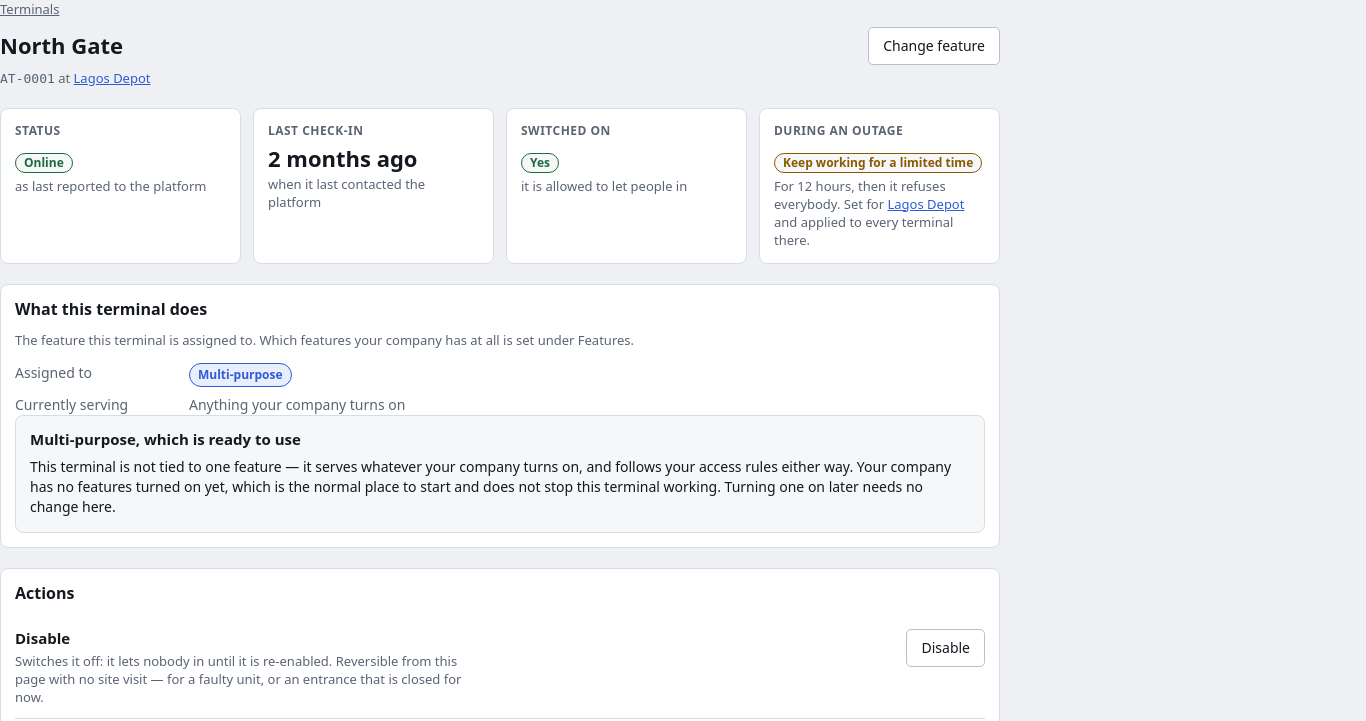
Test: disable and re-enable › sends the reason so the next operator can read why
Check: the heading "Actions" is shown, box [15,582,74,604]
Click the button "Disable" at (946,648), box [906,629,985,667]
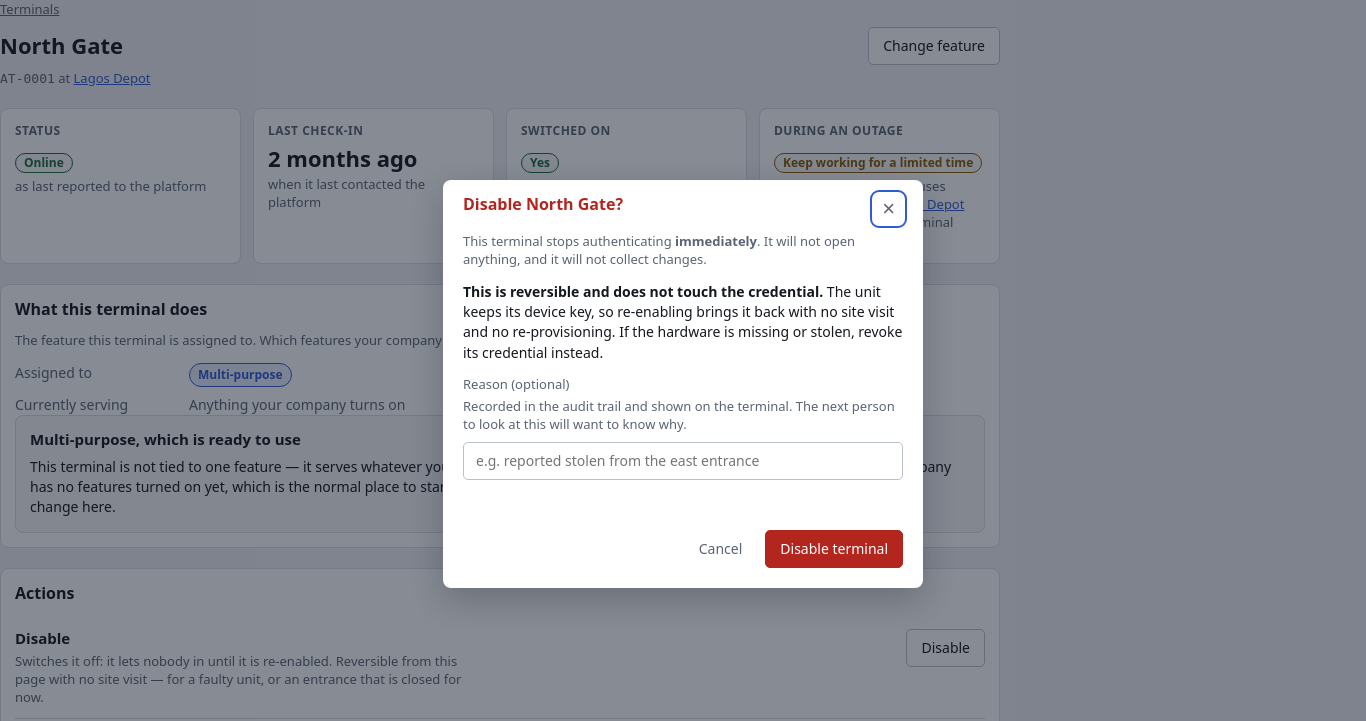
Type "panel damaged in the storm" into the field labelled "Reason (optional)" at (683,461), box [463,442,903,480]
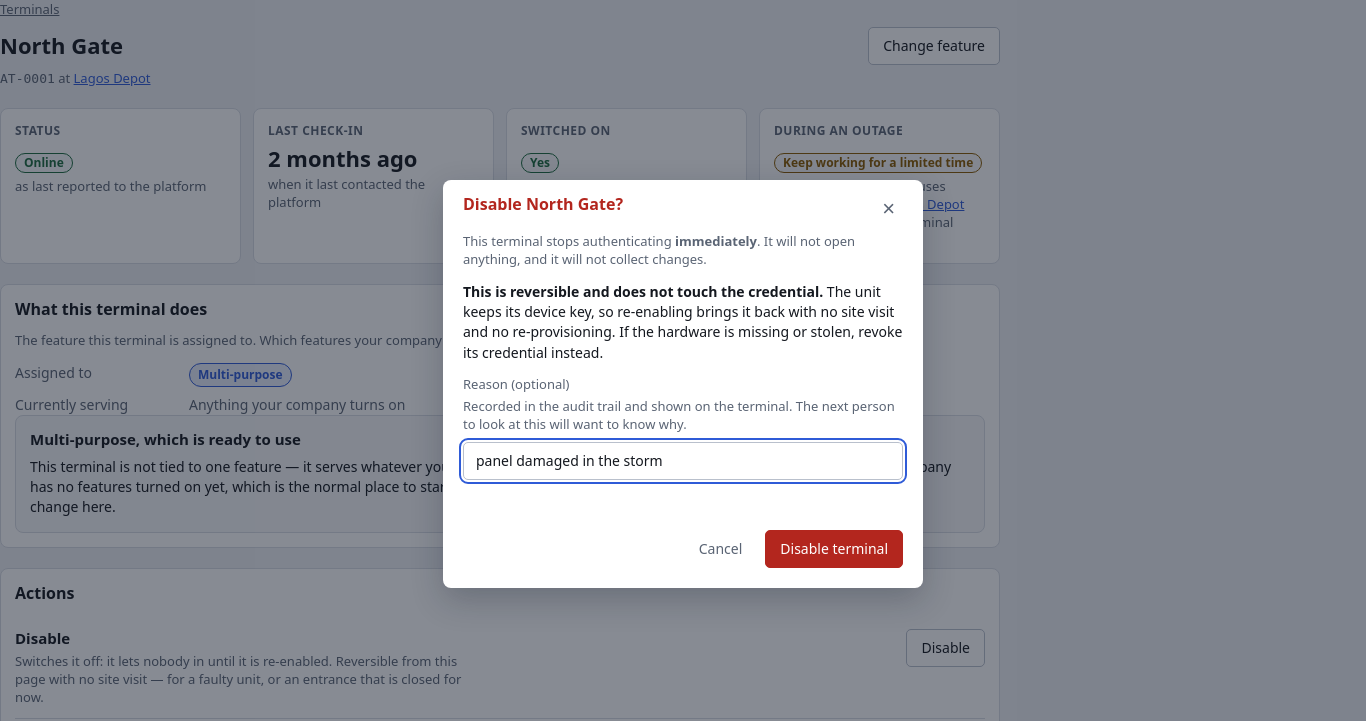
Click the button "Disable terminal" at (834,549), box [765,530,903,568]
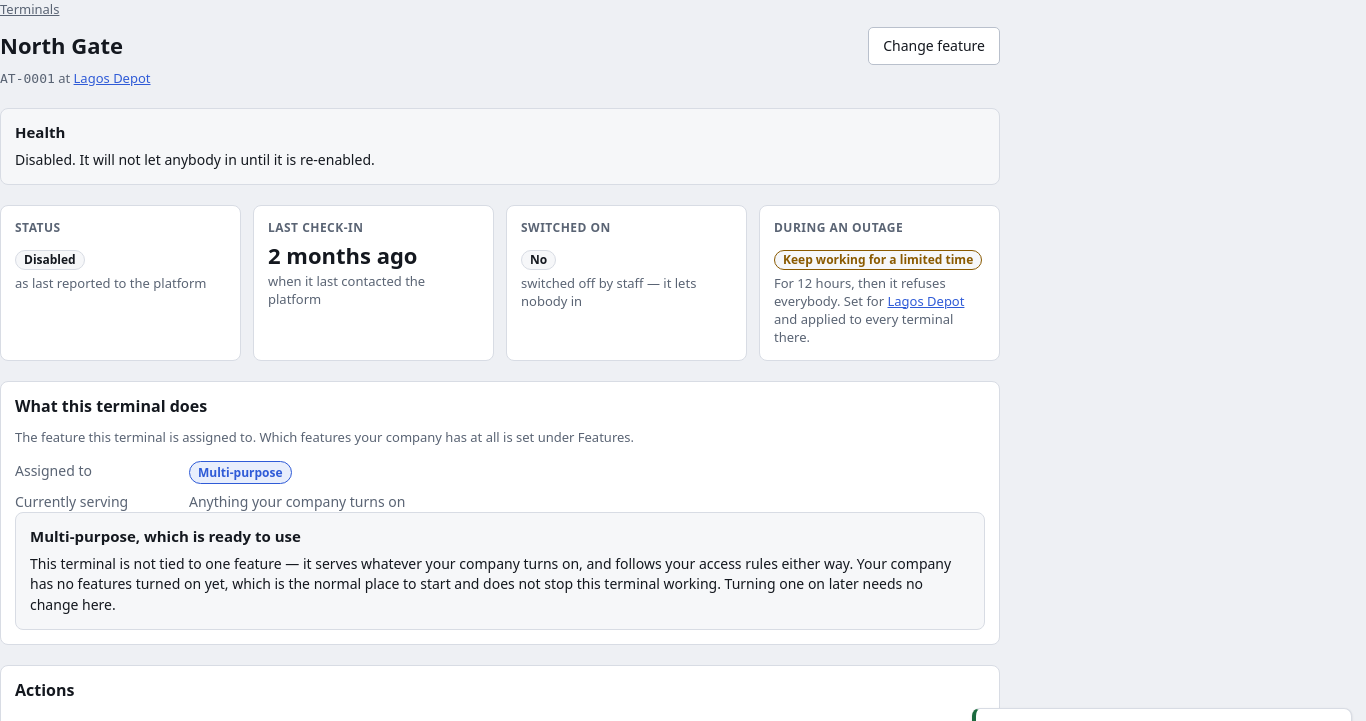
Check: the dialog is gone
